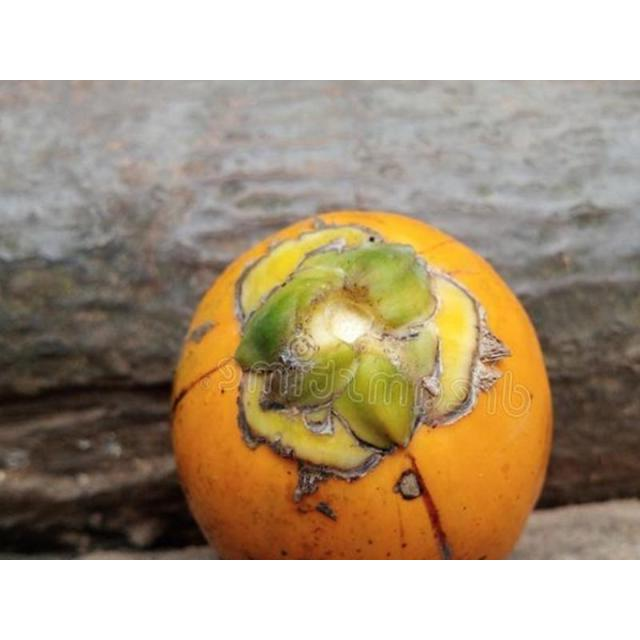good: (170, 213, 552, 559)
